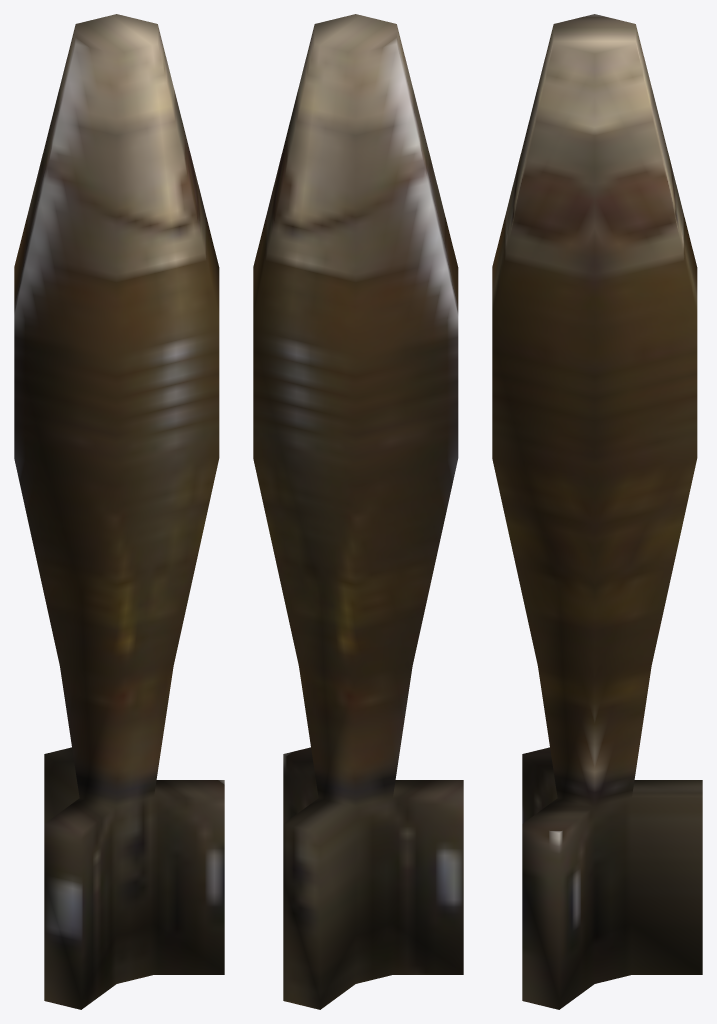
The model's file is mortar_2.FBX.
The picture shows the model from 3 angles, left to right: view 1: azimuth 30°, elevation 25°; view 2: azimuth 150°, elevation 25°; view 3: azimuth 270°, elevation 25°; orthographic projection.
Visible parts, largest first — view 1: mortar_2; view 2: mortar_2; view 3: mortar_2.
Part boxes in pixels (x1,y1,x2,y2): mortar_2: [14, 14, 224, 1009]; mortar_2: [253, 14, 463, 1009]; mortar_2: [492, 14, 702, 1009].
Size of the model in its own units: 8.06 by 35 by 7.17.
